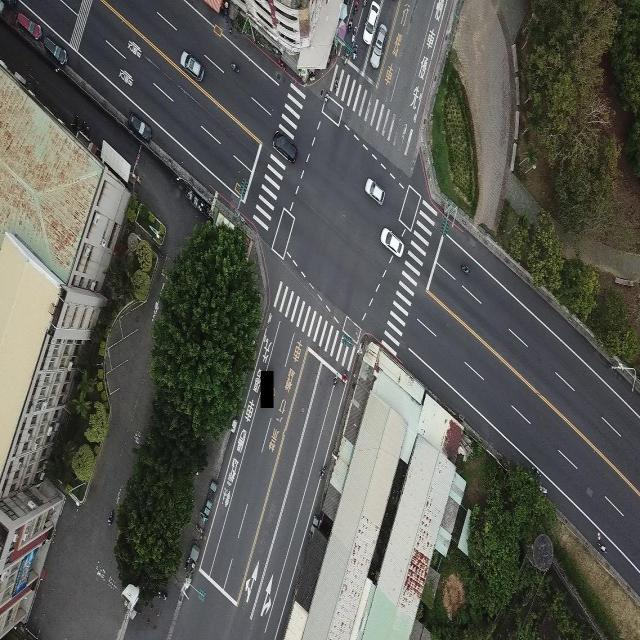bike: (456, 259, 474, 281), (230, 60, 239, 75)
car: (358, 1, 382, 40), (369, 24, 388, 70), (272, 132, 298, 163), (15, 10, 42, 39), (42, 37, 66, 68), (381, 226, 404, 258), (128, 112, 151, 144), (180, 51, 203, 82), (364, 177, 385, 206)
